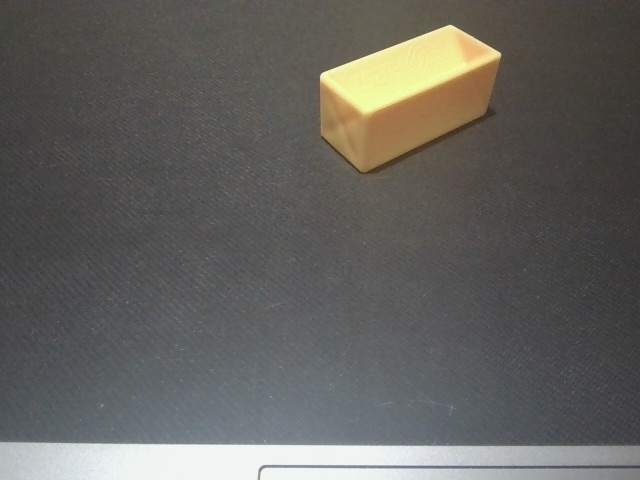YellowSample: (314, 21, 507, 177)
